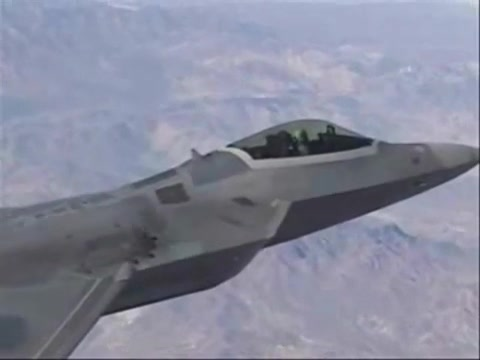aeroplane: (2, 119, 480, 359)
